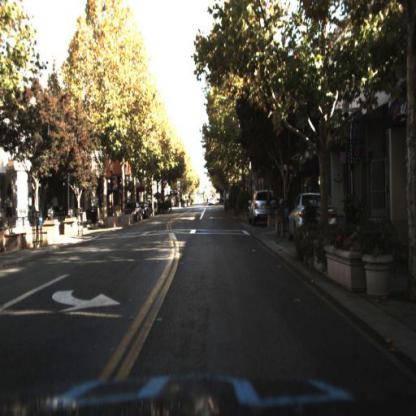car: (289, 193, 339, 240), (249, 188, 277, 228), (122, 200, 148, 226), (140, 199, 154, 222)
